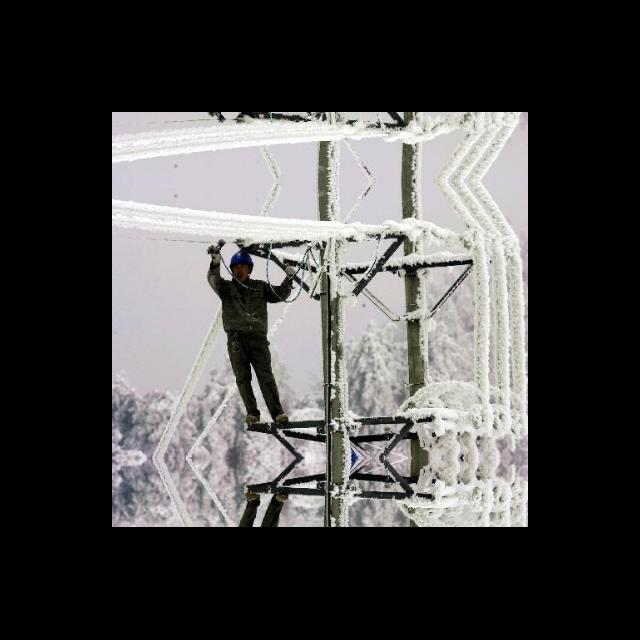Gloves: (211, 248, 222, 264), (286, 265, 296, 278)
Hardhat: (228, 251, 255, 270)
NO-Mask: (234, 273, 249, 284)
NO-Safety Vest: (223, 282, 269, 337)
Person: (207, 247, 301, 424)
